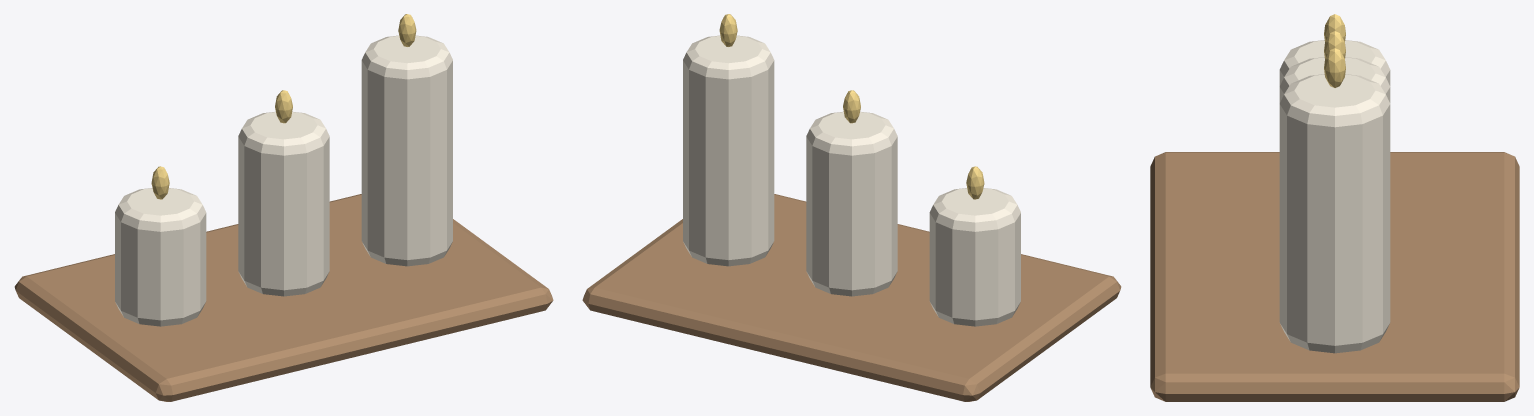
File: cozy-home-interiors-candle-set-34fc0fdd.glb
3 renders of one model, left to right at view 1: azimuth 30°, elevation 25°; view 2: azimuth 150°, elevation 25°; view 3: azimuth 270°, elevation 25°, orthographic. The views are drawn at different scales.
Visible parts, largest first — view 1: candle-set; view 2: candle-set; view 3: candle-set.
Boxes of the visible parts, bbox=[...] form: candle-set: bbox=[14, 14, 553, 401]; candle-set: bbox=[582, 14, 1121, 401]; candle-set: bbox=[1150, 14, 1519, 401].
Bounding box in the file's own units: 0.45 × 0.283 × 0.3.
